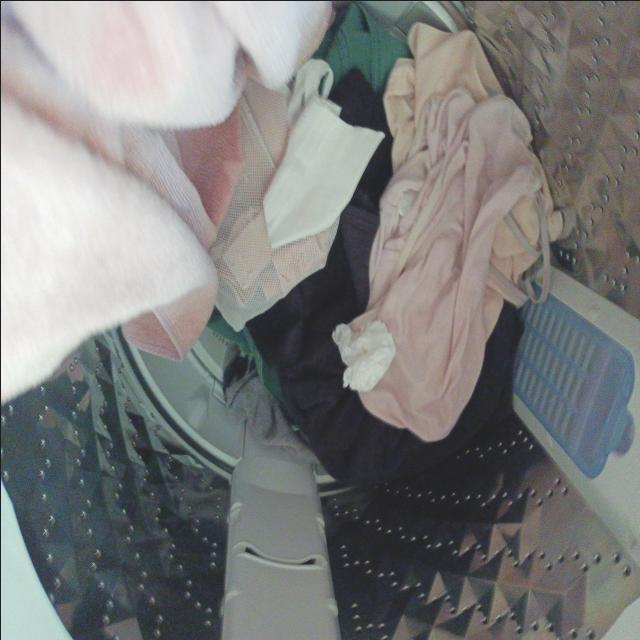Paper: (316, 308, 407, 402)
